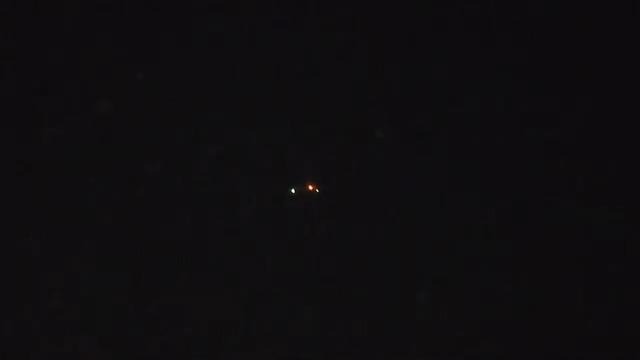Plane: (276, 177, 339, 201)
